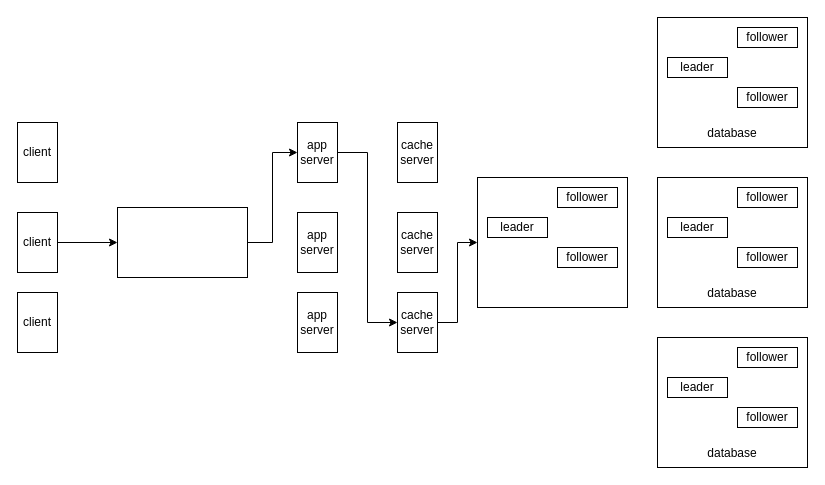
This 825x485 diagram has some shape labels left out. The shapes that lost their labels are listed below. From the top down, each one's box as (x1, y1, x2, y2) in pixels, then its label:
(116, 206, 248, 278): distribute server (Server load balancing)
(476, 176, 628, 308): DAL
